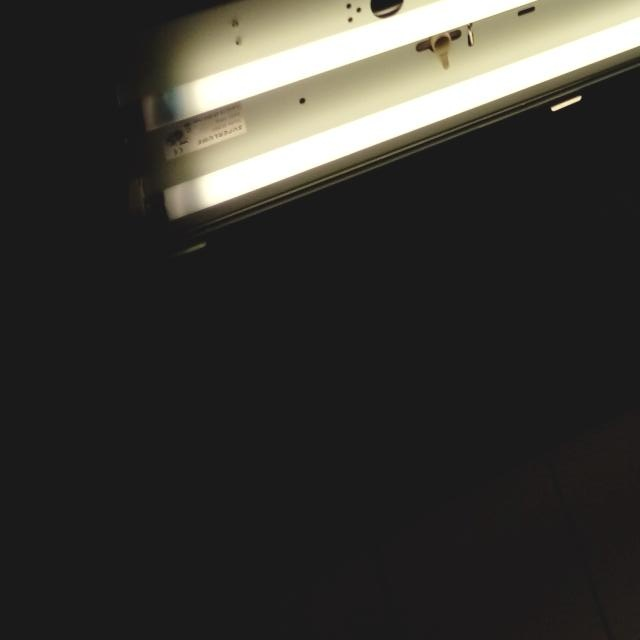fluorescent tube: (117, 0, 640, 244), (132, 0, 640, 142)
